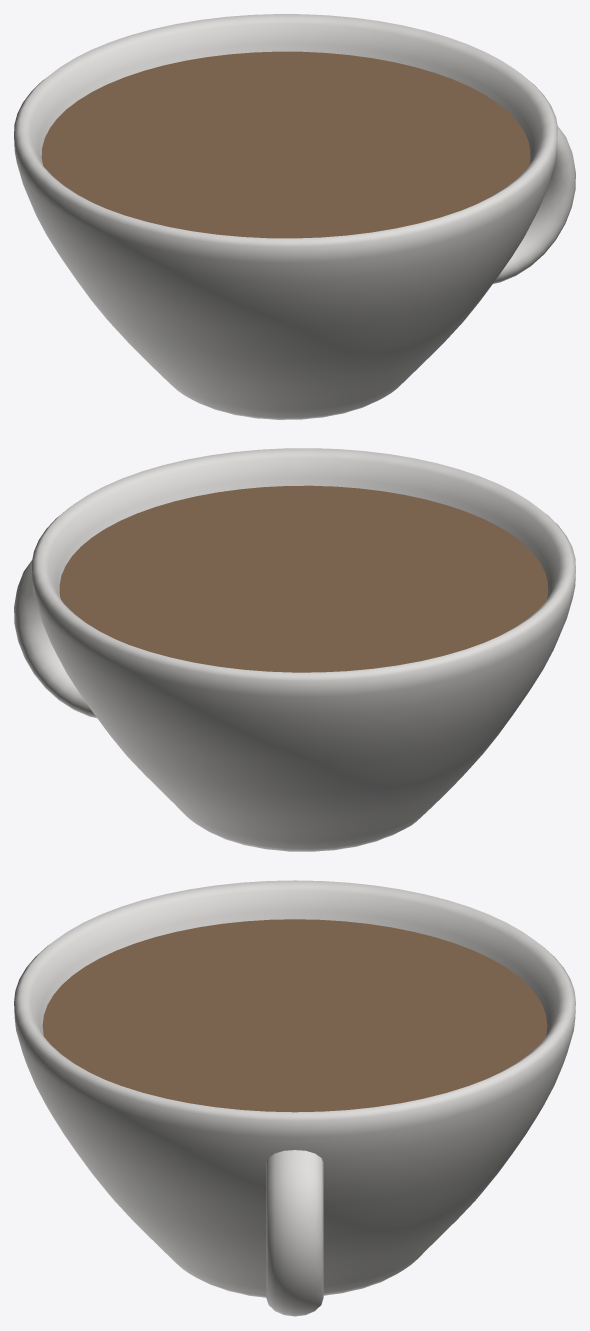
Rendered from cup_americano.fbx.
3 renders of one model, top to bottom at view 1: azimuth 30°, elevation 25°; view 2: azimuth 150°, elevation 25°; view 3: azimuth 270°, elevation 25°, orthographic. The views are drawn at different scales.
Parts seen in each view (by area): view 1: cup, coffee, cup_a; view 2: cup, coffee, cup_a; view 3: cup, coffee, cup_a.
Boxes of the visible parts, box(x1,y1,x2,y2) form: cup: box(14, 14, 558, 419); coffee: box(41, 51, 530, 238); cup_a: box(493, 126, 575, 283); cup: box(31, 448, 575, 851); coffee: box(59, 485, 548, 672); cup_a: box(14, 560, 96, 717); cup: box(14, 880, 575, 1297); coffee: box(42, 919, 547, 1112); cup_a: box(266, 1150, 323, 1316).
Bounding box in the file's own units: 144 × 65.55 × 131.
